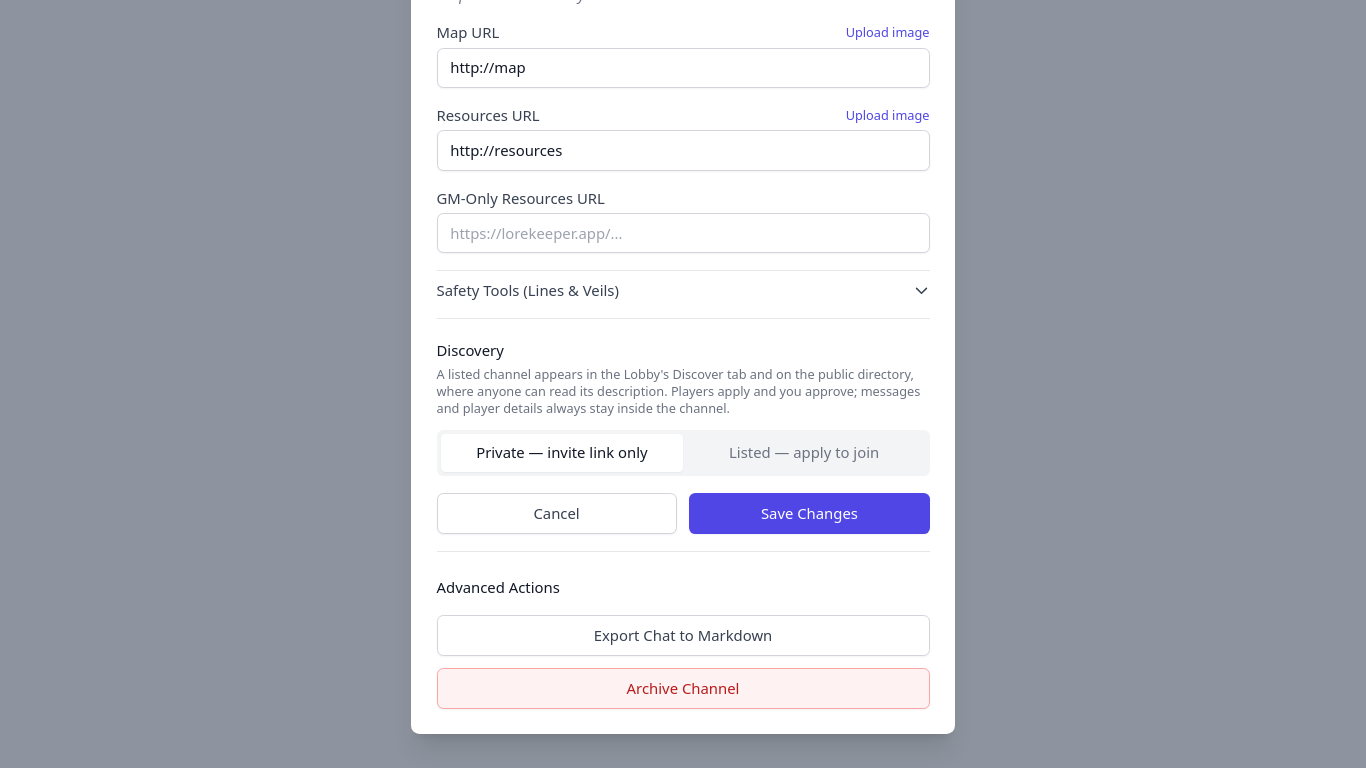
Scenario: ChannelSettings › Discovery and join requests (#674) › starts private and reveals the listing copy only when listed
The image size is (1366, 768).
(page scrolled)
expect the field labelled "Description" is not shown: met
Click the button "Listed — apply to join" at (804, 453), box left=683, top=434, right=925, bottom=472
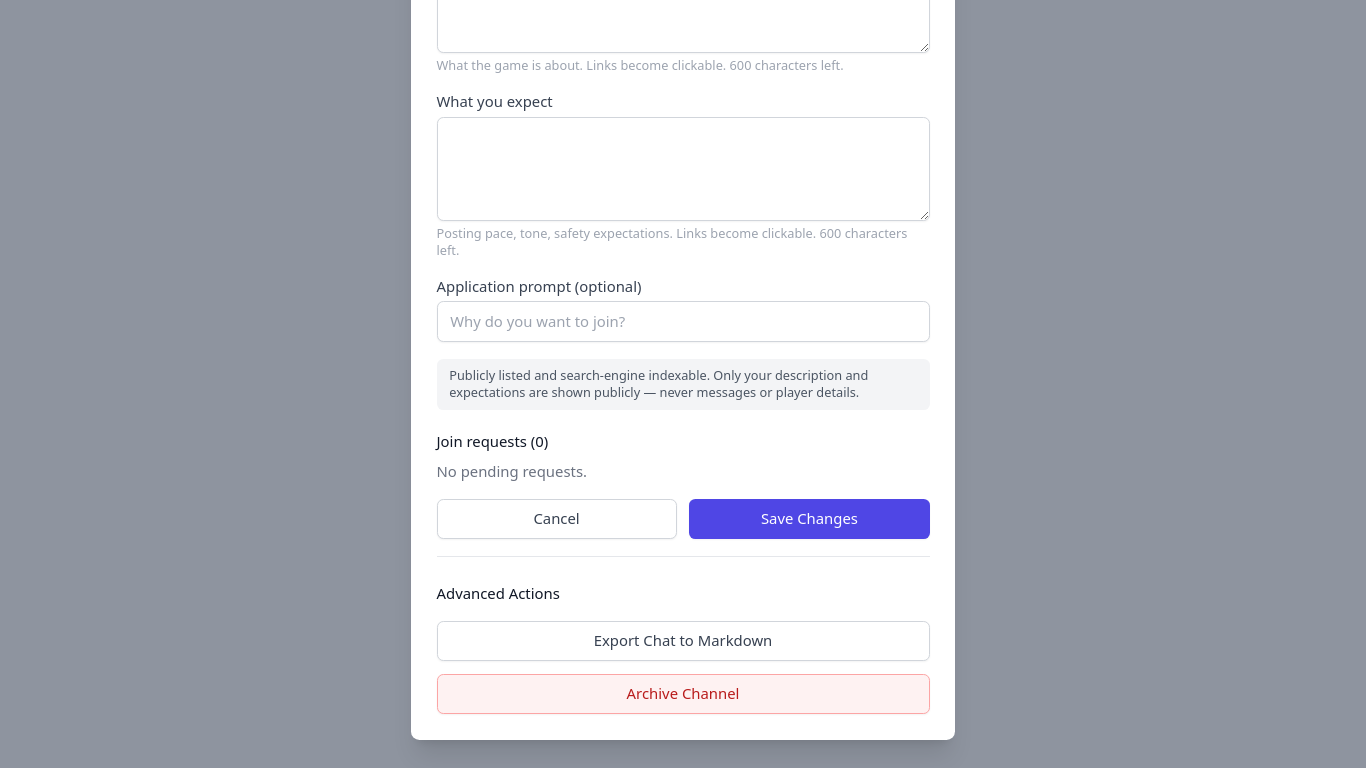
expect the text box labelled "What you expect" is shown: met, box left=436, top=117, right=930, bottom=221
expect the field labelled "Application prompt (optional)" is shown: met, box left=436, top=301, right=930, bottom=342
expect the text "Publicly listed and search-engine indexable" is shown: met, box left=449, top=366, right=868, bottom=401
